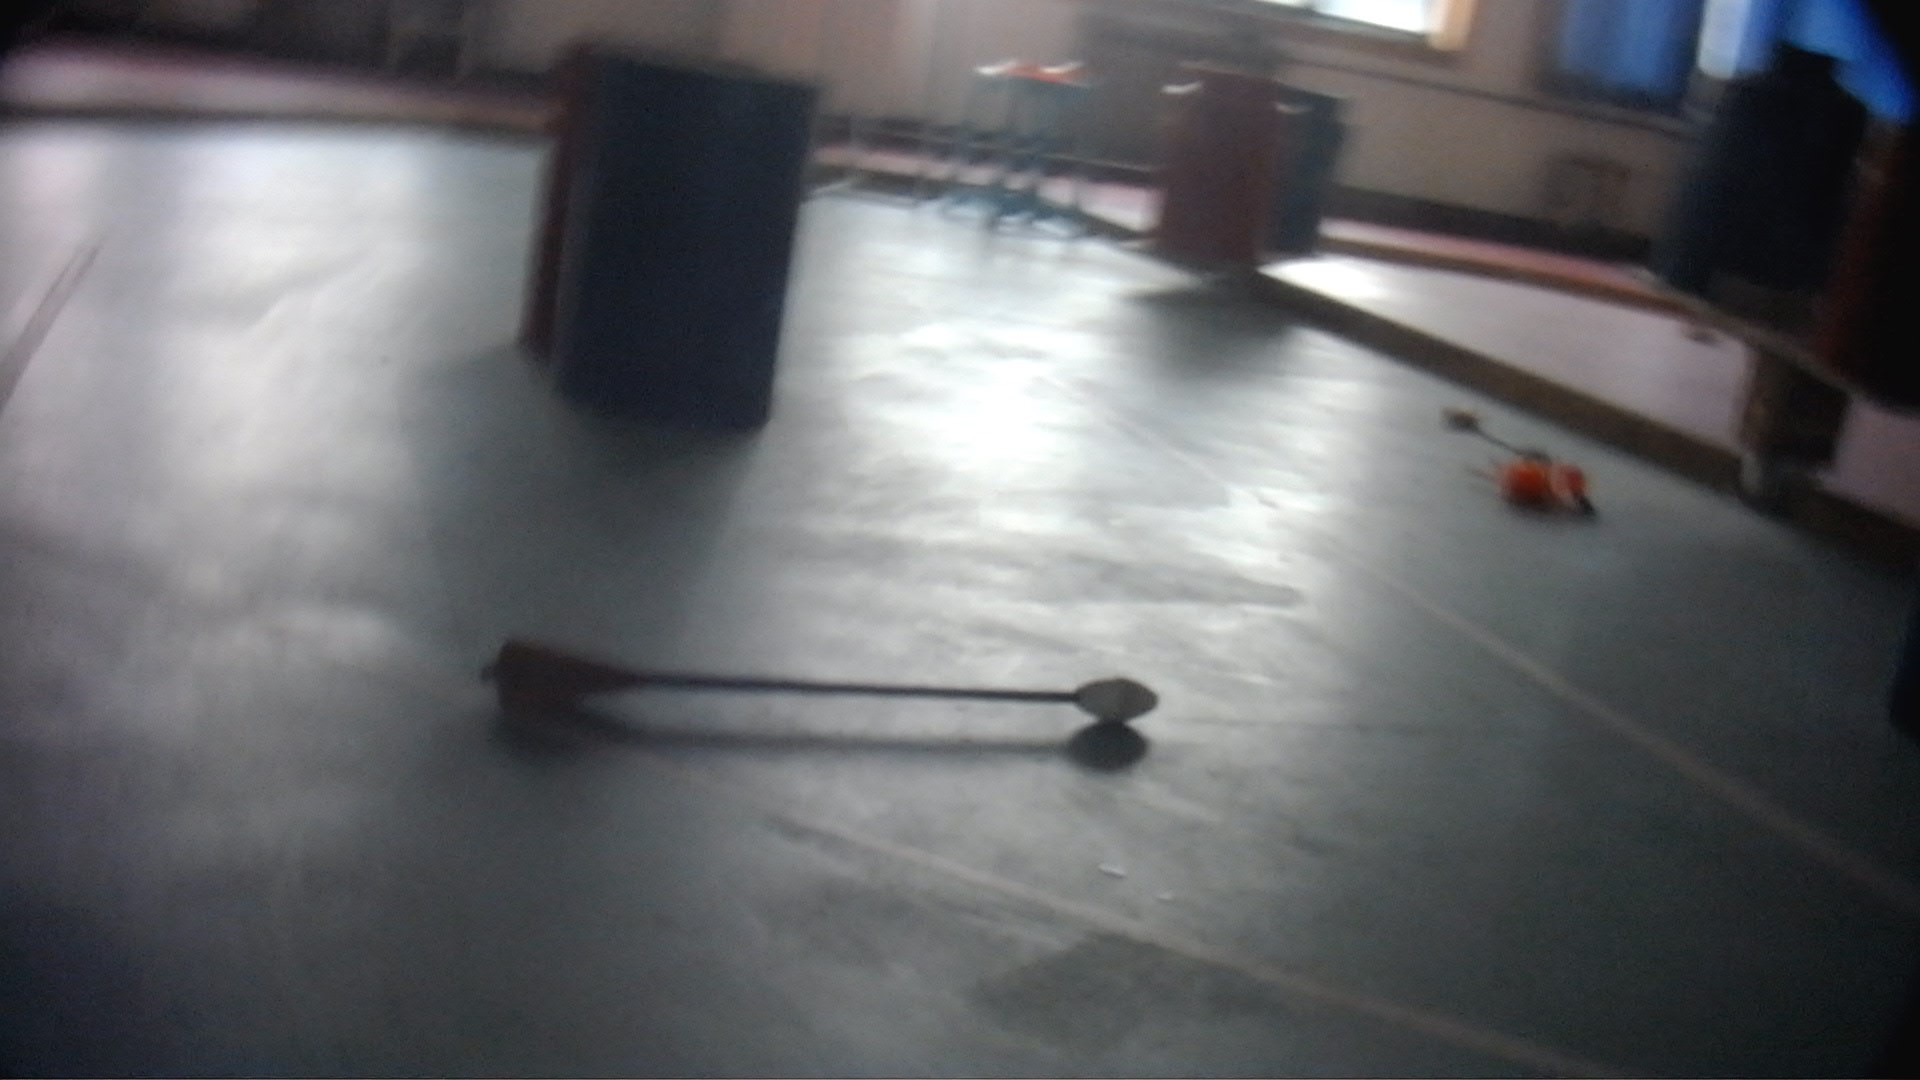arrow: (480, 634, 1160, 725)
arrowFront: (1065, 674, 1160, 728)
